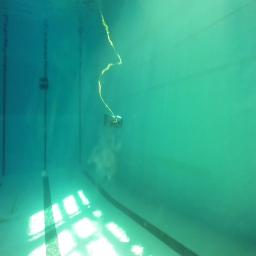Full: (39, 83, 49, 91)
back: (102, 113, 122, 128)
